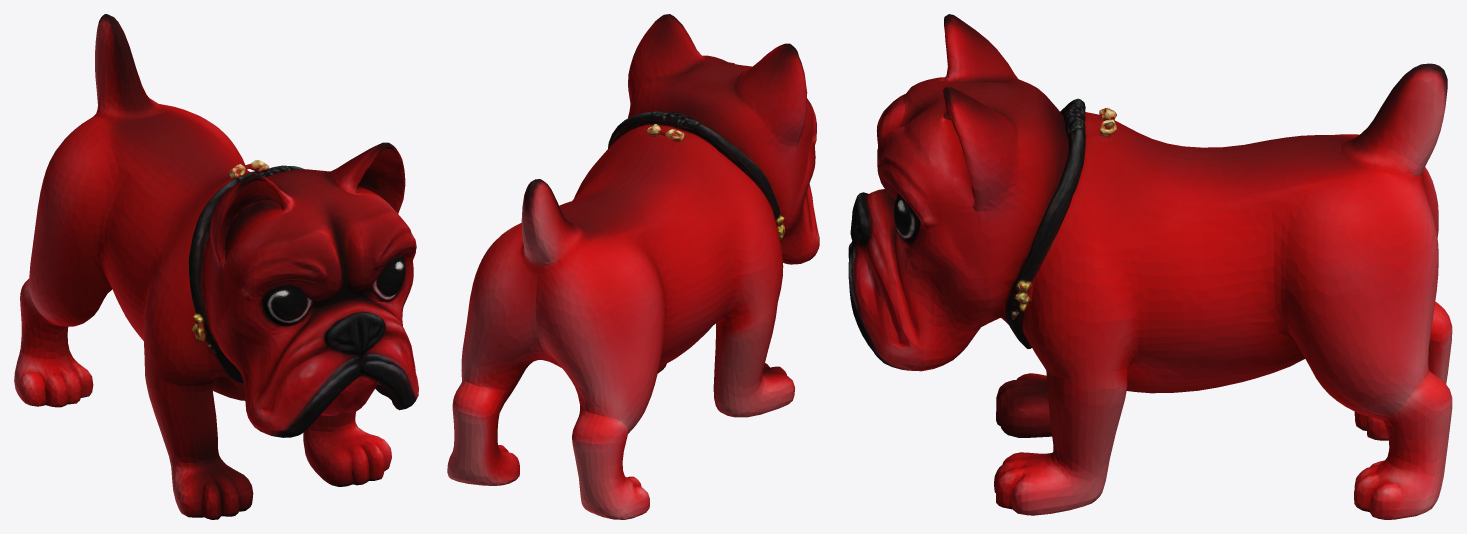
Rendered from bulldawg.glb.
The picture shows the model from 3 angles, left to right: view 1: azimuth 30°, elevation 25°; view 2: azimuth 150°, elevation 25°; view 3: azimuth 270°, elevation 25°; orthographic projection. The views are drawn at different scales.
Parts seen in each view (by area): view 1: world; view 2: world; view 3: world.
Part boxes in pixels (x1,y1,x2,y2): world: (14, 14, 418, 519); world: (447, 14, 819, 519); world: (848, 14, 1452, 519).
Bounding box in the file's own units: 0.4789 × 0.7556 × 0.9988.
1 material, 1 textured.
